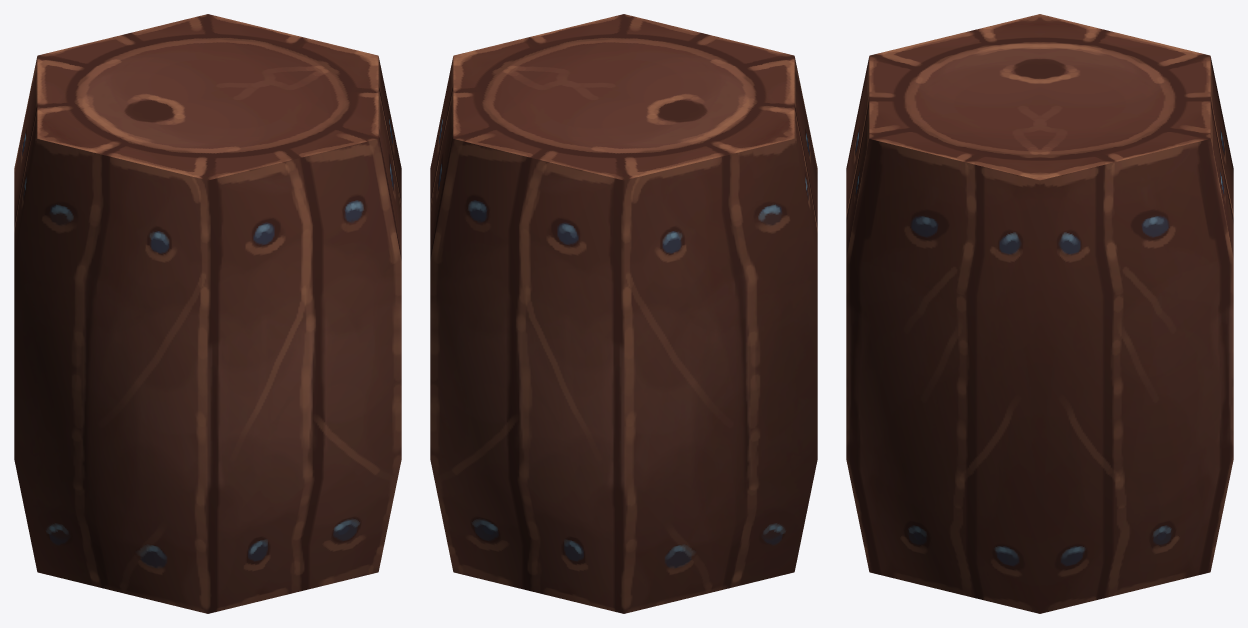
File: barrel_02.fbx
3 views of the same model, side by side, from view 1: azimuth 30°, elevation 25°; view 2: azimuth 150°, elevation 25°; view 3: azimuth 270°, elevation 25° (orthographic).
Visible parts, largest first — view 1: barrel_02; view 2: barrel_02; view 3: barrel_02.
Boxes of the visible parts, left/top/right/bottom form: barrel_02: left=14, top=14, right=401, bottom=613; barrel_02: left=430, top=14, right=817, bottom=613; barrel_02: left=846, top=14, right=1233, bottom=613.
Size of the model in its own units: 1.77 by 1.89 by 1.53.
